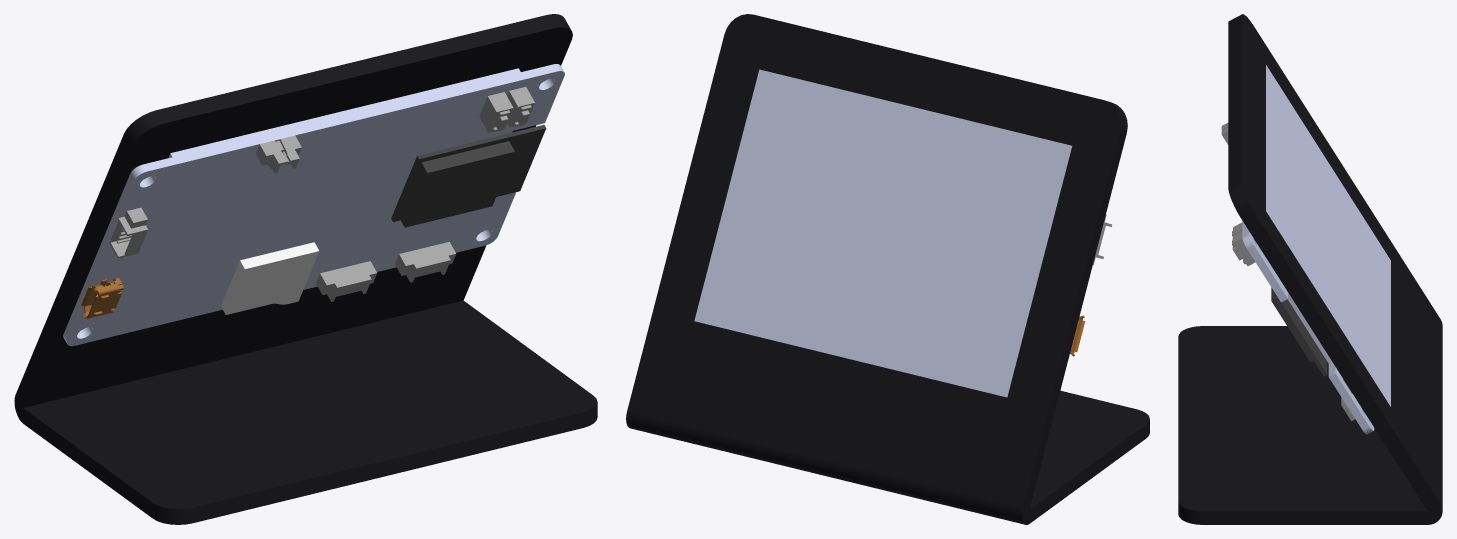
3 renders of one model, left to right at view 1: azimuth 30°, elevation 25°; view 2: azimuth 150°, elevation 25°; view 3: azimuth 270°, elevation 25°, orthographic. The views are drawn at different scales.
Visible parts, largest first — view 1: color, color-9 : 434999561_459883143063211_3270823929370290450_n -  (×3), color-7, color-3 (×3), color-6, color-5 (×2), color-2, color-4; view 2: color, color-9 : 434999561_459883143063211_3270823929370290450_n -  (×2); view 3: color, color-9 : 434999561_459883143063211_3270823929370290450_n -  (×6), color-7, color-5.
Boxes of the visible parts, left/top/right/bottom form: color: left=14, top=14, right=597, bottom=524; color-9 : 434999561_459883143063211_3270823929370290450_n -  (×3): left=63, top=64, right=564, bottom=346; color-7: left=391, top=125, right=546, bottom=227; color-3 (×3): left=108, top=207, right=456, bottom=301; color-6: left=221, top=242, right=319, bottom=314; color-5 (×2): left=479, top=87, right=534, bottom=132; color-2: left=81, top=277, right=123, bottom=318; color-4: left=255, top=135, right=301, bottom=173; color: left=626, top=14, right=1149, bottom=524; color-9 : 434999561_459883143063211_3270823929370290450_n -  (×2): left=694, top=69, right=1072, bottom=397; color: left=1178, top=14, right=1442, bottom=524; color-9 : 434999561_459883143063211_3270823929370290450_n -  (×6): left=1247, top=65, right=1390, bottom=430; color-7: left=1271, top=287, right=1327, bottom=376; color-5: left=1232, top=231, right=1255, bottom=266.
Bounding box in the file's own units: 0.088 × 0.0738 × 0.053.
